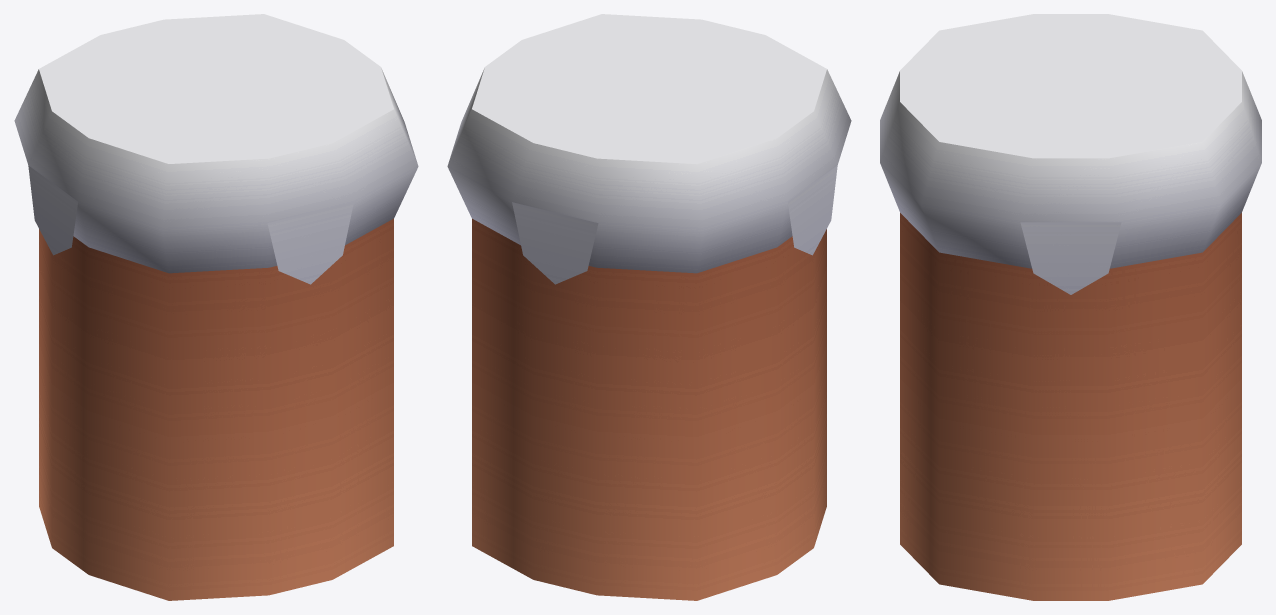
Rendered from block-snow-overhang-narrow.glb.
3 renders of one model, left to right at view 1: azimuth 30°, elevation 25°; view 2: azimuth 150°, elevation 25°; view 3: azimuth 270°, elevation 25°, orthographic.
Parts seen in each view (by area): view 1: block-snow-overhang-narrow; view 2: block-snow-overhang-narrow; view 3: block-snow-overhang-narrow.
Boxes of the visible parts, box(x1,y1,x2,y2) form: block-snow-overhang-narrow: box(14, 14, 418, 600); block-snow-overhang-narrow: box(447, 14, 851, 600); block-snow-overhang-narrow: box(880, 14, 1261, 600).
Size of the model in its own units: 0.7821 by 1 by 0.7821.
1 material, 1 textured.
